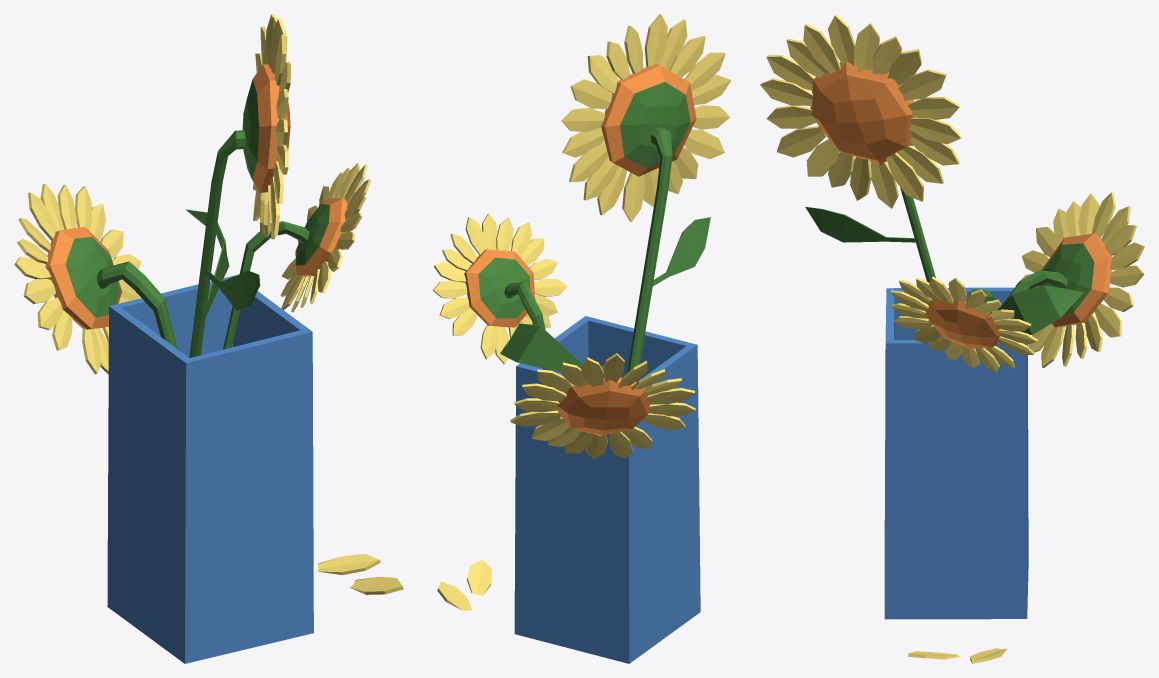
File: Flower_Vase_with_Sunflowers_231109.glb
3 views of the same model, side by side, from view 1: azimuth 30°, elevation 25°; view 2: azimuth 150°, elevation 25°; view 3: azimuth 270°, elevation 25° (orthographic). The views are drawn at different scales.
Parts seen in each view (by area): view 1: Vase_with_Sunflowers; view 2: Vase_with_Sunflowers; view 3: Vase_with_Sunflowers.
Boxes of the visible parts, x1,y1,x2,y2 form: Vase_with_Sunflowers: (14, 14, 403, 663); Vase_with_Sunflowers: (432, 14, 731, 663); Vase_with_Sunflowers: (760, 14, 1144, 663).
Bounding box in the file's own units: 0.408 × 0.7697 × 0.4624.
Materials: 1 (1 with a texture image).
